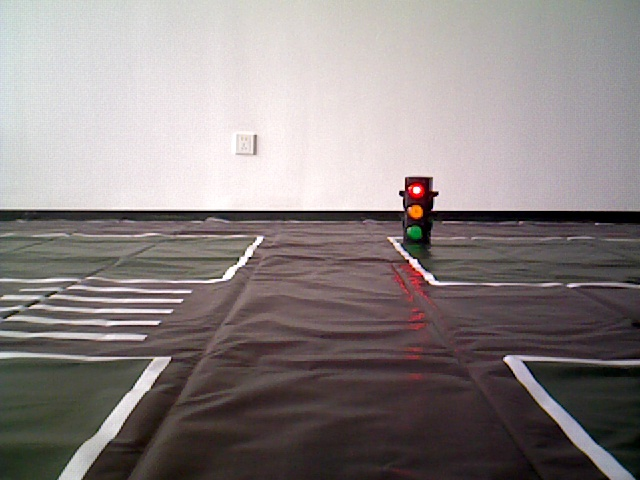red: (403, 175, 427, 240)
